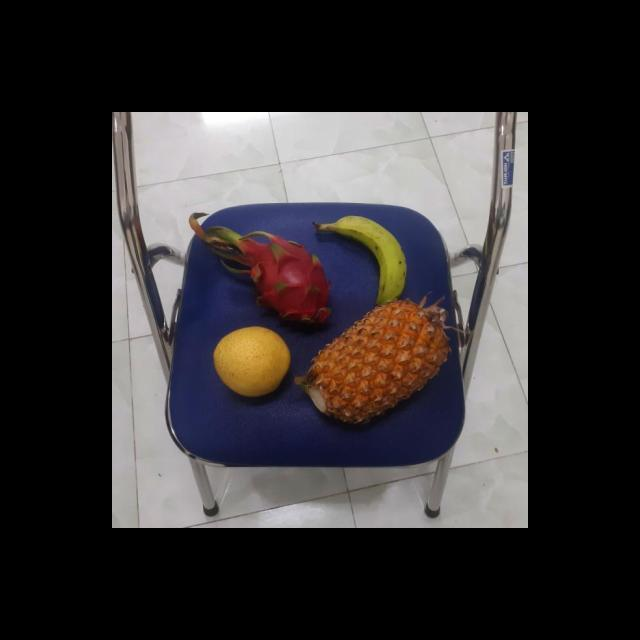banana: (327, 213, 411, 309)
pear: (210, 325, 294, 396)
pineapple: (305, 300, 453, 424)
pitaya: (242, 236, 334, 330)
